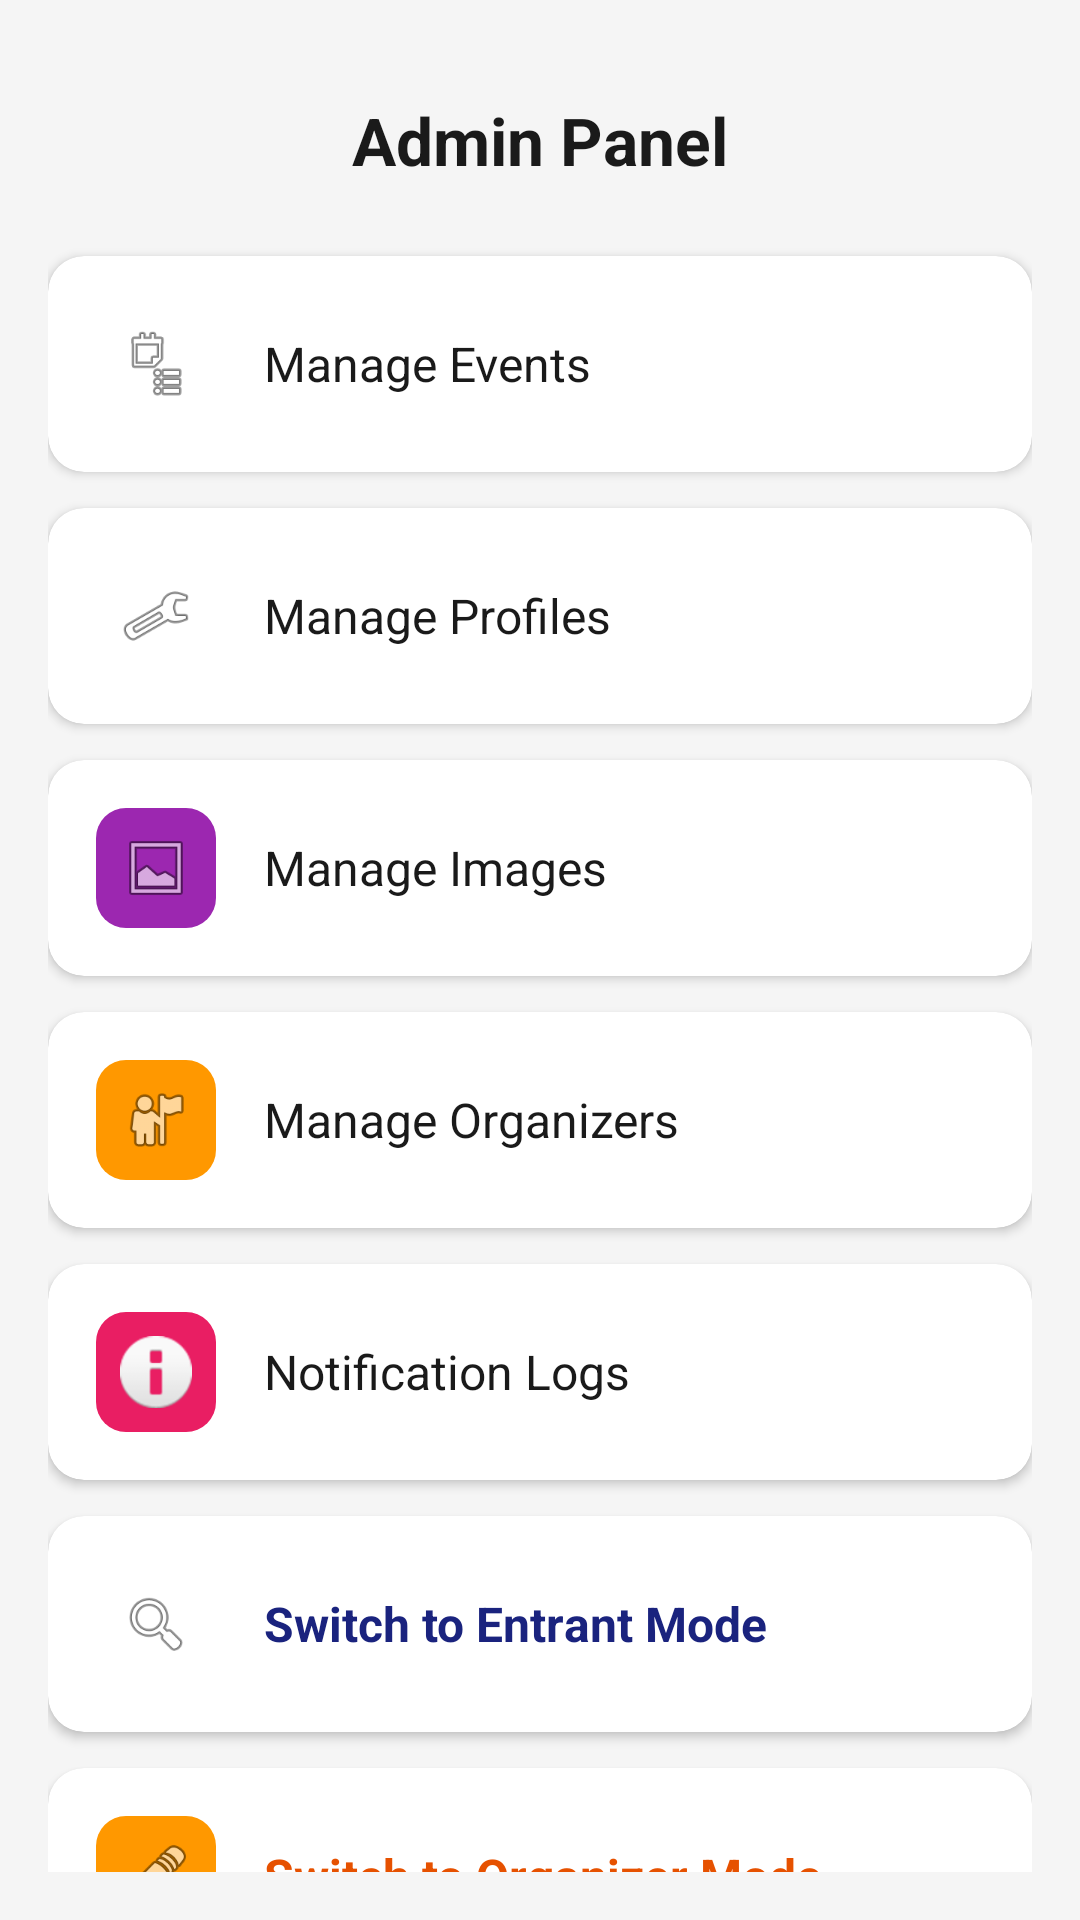

Icon click points for this 1080px x 1920px phone screenshot, format [x,y]:
agenda: [156,364]
gallery: [156,868]
info: [156,1372]
myplaces: [156,1120]
search: [156,1624]
